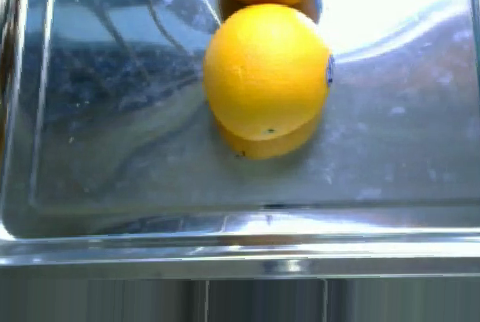Orange: (201, 1, 333, 138)
